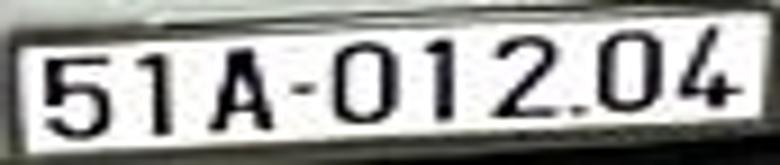-: (289, 79, 322, 101)
.: (568, 104, 589, 124)
0: (329, 41, 400, 125), (596, 29, 666, 113)
1: (131, 49, 172, 139), (424, 37, 458, 120)
2: (486, 31, 559, 121)
4: (674, 28, 746, 112)
5: (41, 52, 110, 140)
A: (209, 44, 274, 135)
